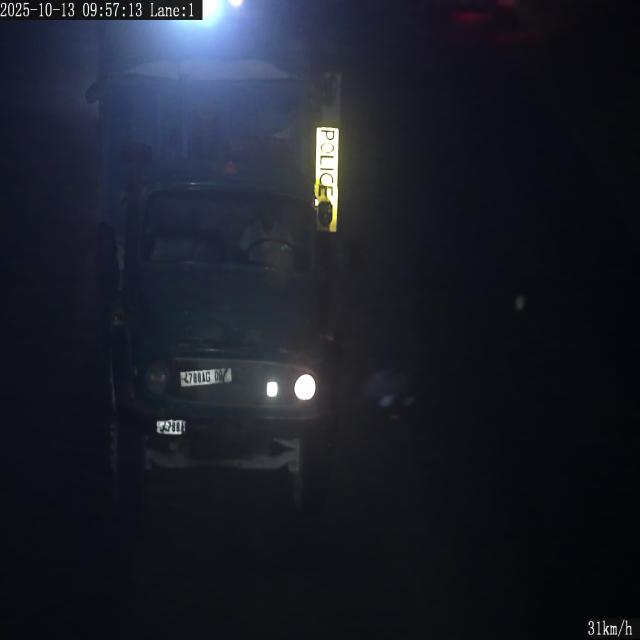BUS: (180, 369, 231, 387), (157, 420, 185, 434)
